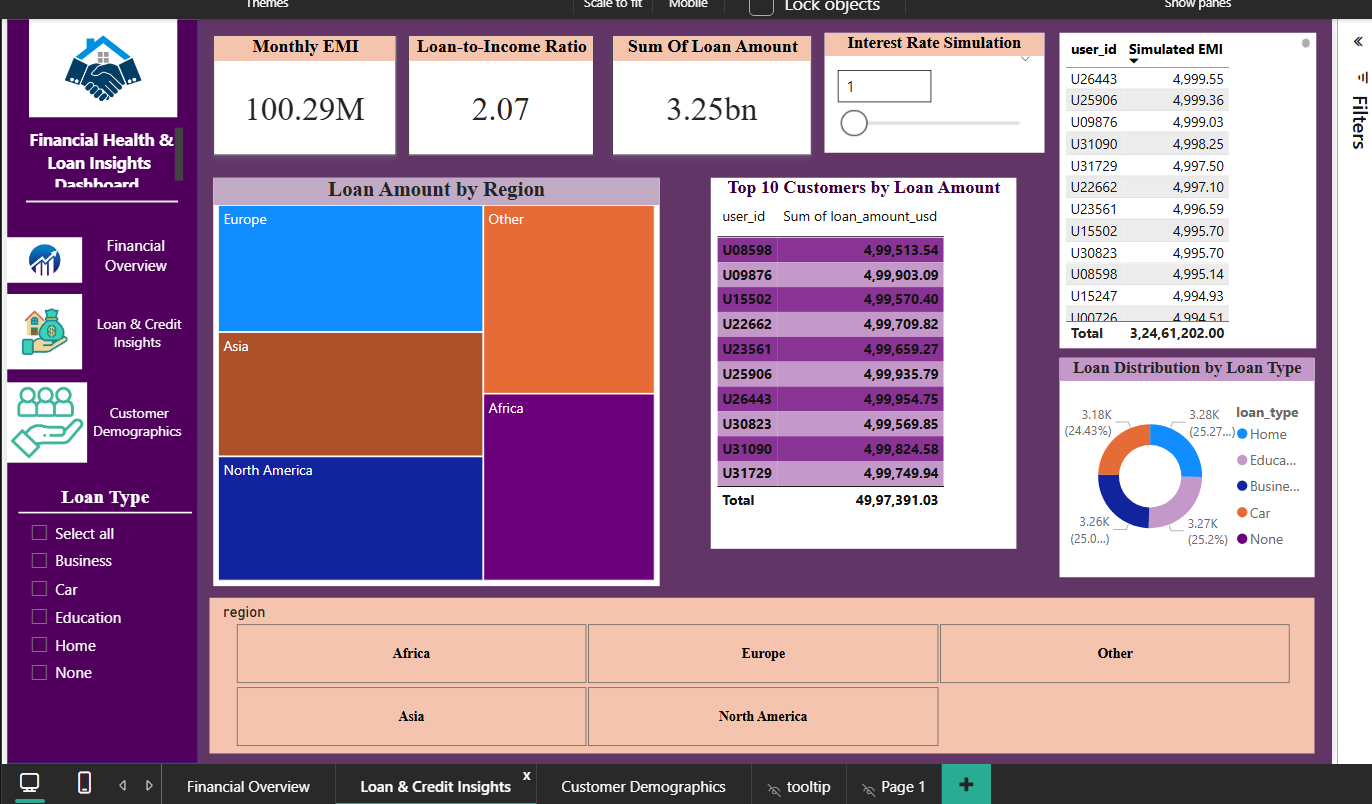

The page's visual inventory and layout, read from the dashboard file:
{"tool":"powerbi","page":{"name":" Loan & Credit Insights ","canvas":[1280,720],"ordinal":1},"visuals":[{"type":"shape","box":[0,0,184.9,719.2],"z":0,"group":"g1"},{"type":"card","title":" Loan-to-Income Ratio ","fields":{"Values":["synthetic_personal_finance_data.Loan-to-Income Ratio"]},"box":[387.2,15.1,179.1,116.3],"z":0},{"type":"image","box":[0,192.9,73.1,79],"z":0,"group":"g2"},{"type":"image","box":[0,263.8,73.1,77.9],"z":0,"group":"g3"},{"type":"image","box":[0,349.7,77.6,79],"z":0,"group":"g4"},{"type":"treemap","title":" Loan Amount by Region","fields":{"Group":["synthetic_personal_finance_data.region"],"Values":["Sum(synthetic_personal_finance_data.loan_amount_usd)"]},"box":[198.8,153.5,431.4,394.2],"z":1000},{"type":"textbox","box":[73.1,203,101.6,60.3],"z":1000,"group":"g2"},{"type":"textbox","box":[77.6,281.2,97,47.6],"z":1000,"group":"g3"},{"type":"textbox","box":[77.6,364.8,97,50],"z":1000,"group":"g4"},{"type":"tableEx","title":" Top 10 Customers by Loan Amount ","fields":{"Values":["synthetic_personal_finance_data.user_id","Sum(synthetic_personal_finance_data.loan_amount_usd)"]},"box":[680.2,153.5,295.3,358.1],"z":2000},{"type":"slicer","fields":{"Values":["synthetic_personal_finance_data.region"]},"box":[195.7,559.5,1067.5,150.1],"z":3000},{"type":"card","title":"Monthly EMI","fields":{"Values":["Sum(synthetic_personal_finance_data.monthly_emi_usd)"]},"box":[198.8,15.1,176.7,116.3],"z":4000},{"type":"slicer","title":"Interest Rate Simulation","fields":{"Values":["Interest Rate Simulation.Interest Rate Simulation"]},"box":[789.5,12.8,211.6,115.1],"z":5000},{"type":"tableEx","fields":{"Values":["synthetic_personal_finance_data.user_id","Interest Rate Simulation.Simulated EMI"]},"box":[1016.3,12.8,247.7,304.7],"z":6000},{"type":"donutChart","title":" Loan Distribution by Loan Type","fields":{"Category":["synthetic_personal_finance_data.loan_type"],"Y":["Count(synthetic_personal_finance_data.loan_amount_usd)"]},"box":[1016.3,326.7,246.5,211.6],"z":7000},{"type":"group","id":"g1","title":"Group 4","box":[0,0,184.9,719.2],"z":8000},{"type":"image","box":[10.3,0,164.4,95.3],"z":9000,"group":"g1"},{"type":"slicer","title":"Loan Type","fields":{"Values":["synthetic_personal_finance_data.loan_type"]},"box":[10.8,450.3,168.1,254.6],"z":9000},{"type":"card","title":"Sum Of Loan Amount","fields":{"Values":["Sum(synthetic_personal_finance_data.loan_amount_usd)"]},"box":[583.7,15.1,193,116.3],"z":10000},{"type":"textbox","box":[10.3,99.9,164.4,67.4],"z":10000,"group":"g1"},{"type":"shape","box":[18.3,159.2,147.2,33.7],"z":11000,"group":"g1"},{"type":"group","id":"g2","title":"Group 1","box":[0,192.9,174.6,79],"z":12000,"group":"g1"},{"type":"group","id":"g3","title":"Group 2","box":[0,263.8,174.6,77.9],"z":13000,"group":"g1"},{"type":"group","id":"g4","title":"Group 3","box":[0,349.7,174.6,79],"z":14000,"group":"g1"}]}

Visuals, with their boxes on the page's 1280x720 design canvas (x1, y1, x2, y2). These are canvas units, not pixel positions in the 1372x804 screenshot, which may show the page scaled, cropped or inside an application window:
shape: [left=0, top=0, right=185, bottom=719]
" Loan-to-Income Ratio " card: [left=387, top=15, right=566, bottom=131]
image: [left=0, top=193, right=73, bottom=272]
image: [left=0, top=264, right=73, bottom=342]
image: [left=0, top=350, right=78, bottom=429]
" Loan Amount by Region" treemap: [left=199, top=154, right=630, bottom=548]
textbox: [left=73, top=203, right=175, bottom=263]
textbox: [left=78, top=281, right=175, bottom=329]
textbox: [left=78, top=365, right=175, bottom=415]
" Top 10 Customers by Loan Amount " tableEx: [left=680, top=154, right=976, bottom=512]
slicer - synthetic_personal_finance_data.region: [left=196, top=560, right=1263, bottom=710]
"Monthly EMI" card: [left=199, top=15, right=376, bottom=131]
"Interest Rate Simulation" slicer: [left=790, top=13, right=1001, bottom=128]
tableEx - synthetic_personal_finance_data.user_id x Interest Rate Simulation.Simulated EMI: [left=1016, top=13, right=1264, bottom=318]
" Loan Distribution by Loan Type" donutChart: [left=1016, top=327, right=1263, bottom=538]
"Group 4" group: [left=0, top=0, right=185, bottom=719]
image: [left=10, top=0, right=175, bottom=95]
"Loan Type" slicer: [left=11, top=450, right=179, bottom=705]
"Sum Of Loan Amount" card: [left=584, top=15, right=777, bottom=131]
textbox: [left=10, top=100, right=175, bottom=167]
shape: [left=18, top=159, right=166, bottom=193]
"Group 1" group: [left=0, top=193, right=175, bottom=272]
"Group 2" group: [left=0, top=264, right=175, bottom=342]
"Group 3" group: [left=0, top=350, right=175, bottom=429]
